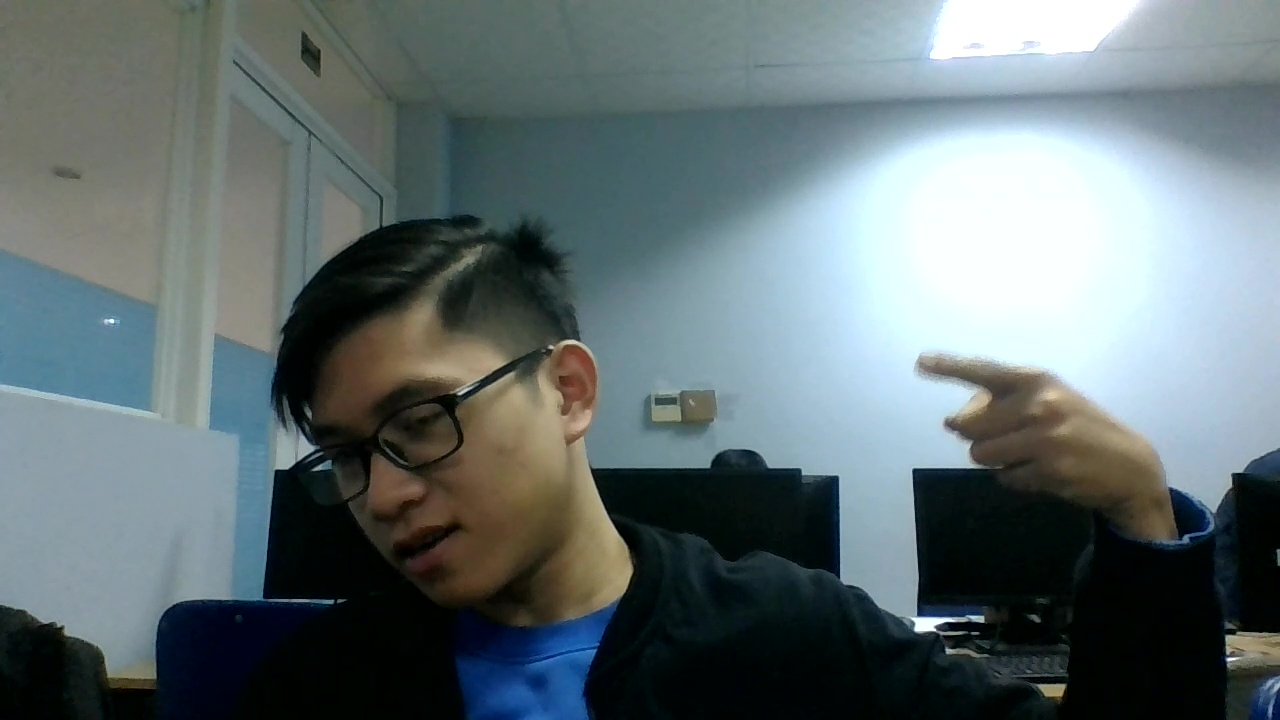right: (914, 339, 1176, 518)
